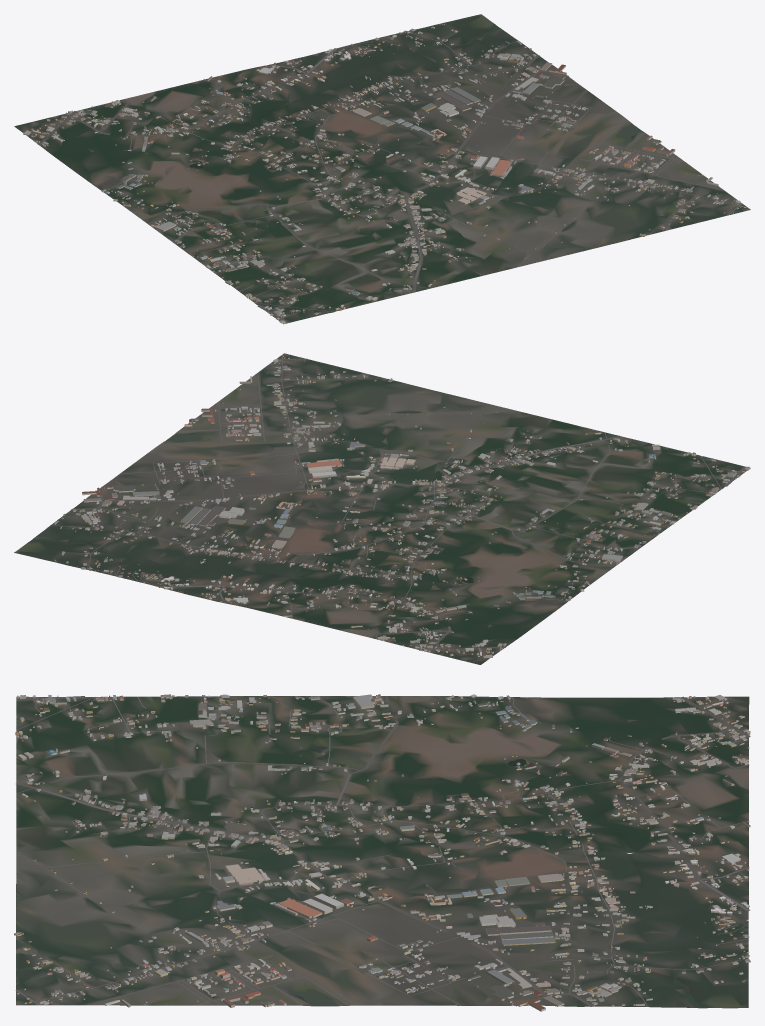
The picture shows the model from 3 angles, top to bottom: view 1: azimuth 30°, elevation 25°; view 2: azimuth 150°, elevation 25°; view 3: azimuth 270°, elevation 25°; orthographic projection. The views are drawn at different scales.
Parts seen in each view (by area): view 1: ground, buildings, roads; view 2: ground, buildings, roads; view 3: ground, buildings, roads, water.
Boxes of the visible parts, box(x1,y1,x2,y2) form: ground: box(14, 14, 750, 324); buildings: box(23, 23, 746, 323); roads: box(38, 31, 742, 323); ground: box(14, 353, 750, 664); buildings: box(54, 355, 750, 658); roads: box(51, 358, 746, 652); ground: box(16, 696, 749, 1008); buildings: box(14, 694, 750, 1011); roads: box(15, 696, 750, 1006); water: box(19, 705, 704, 1007).
Bounding box in the file's own units: 2860 × 27.41 × 2817.
